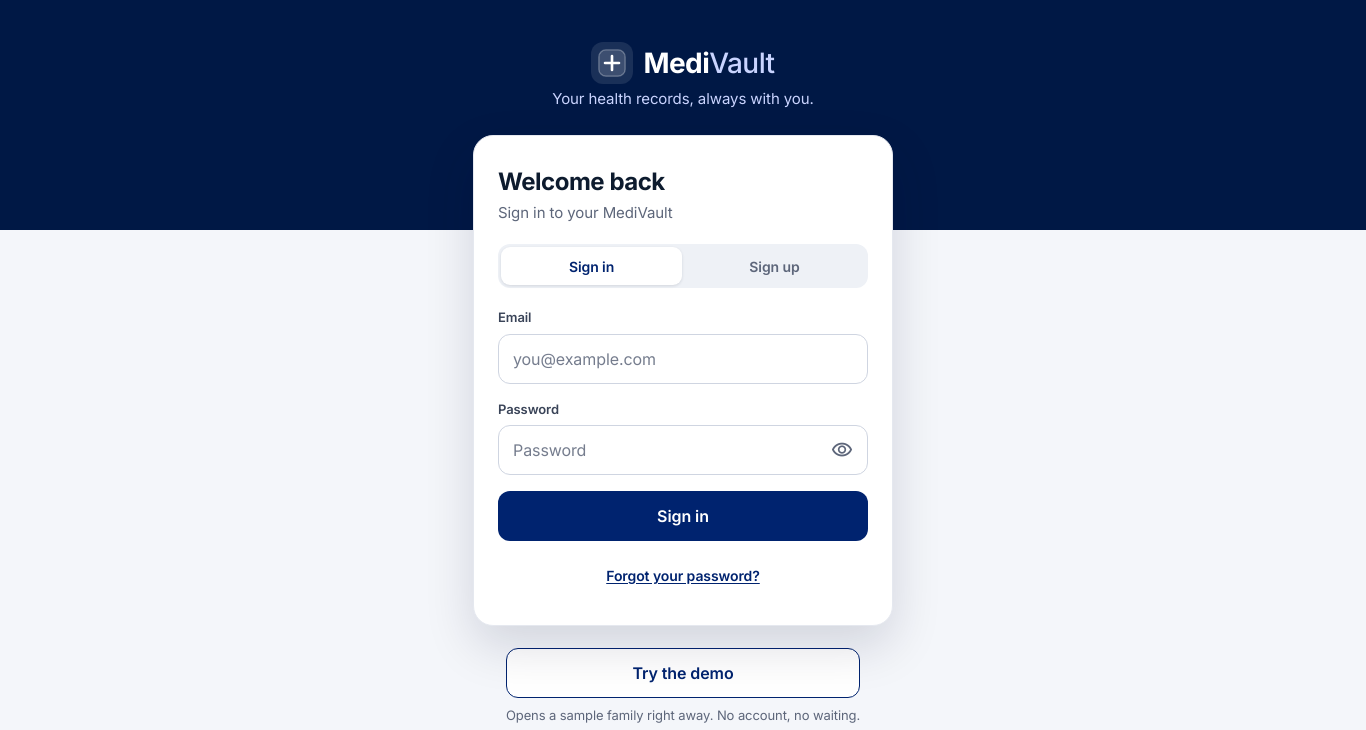
Test: Try the demo opens a sample family with no account and no server
The width and height of the screenshot is (1366, 730).
Click the button "Try the demo".
click(683, 673)  # box [506,648,860,698]
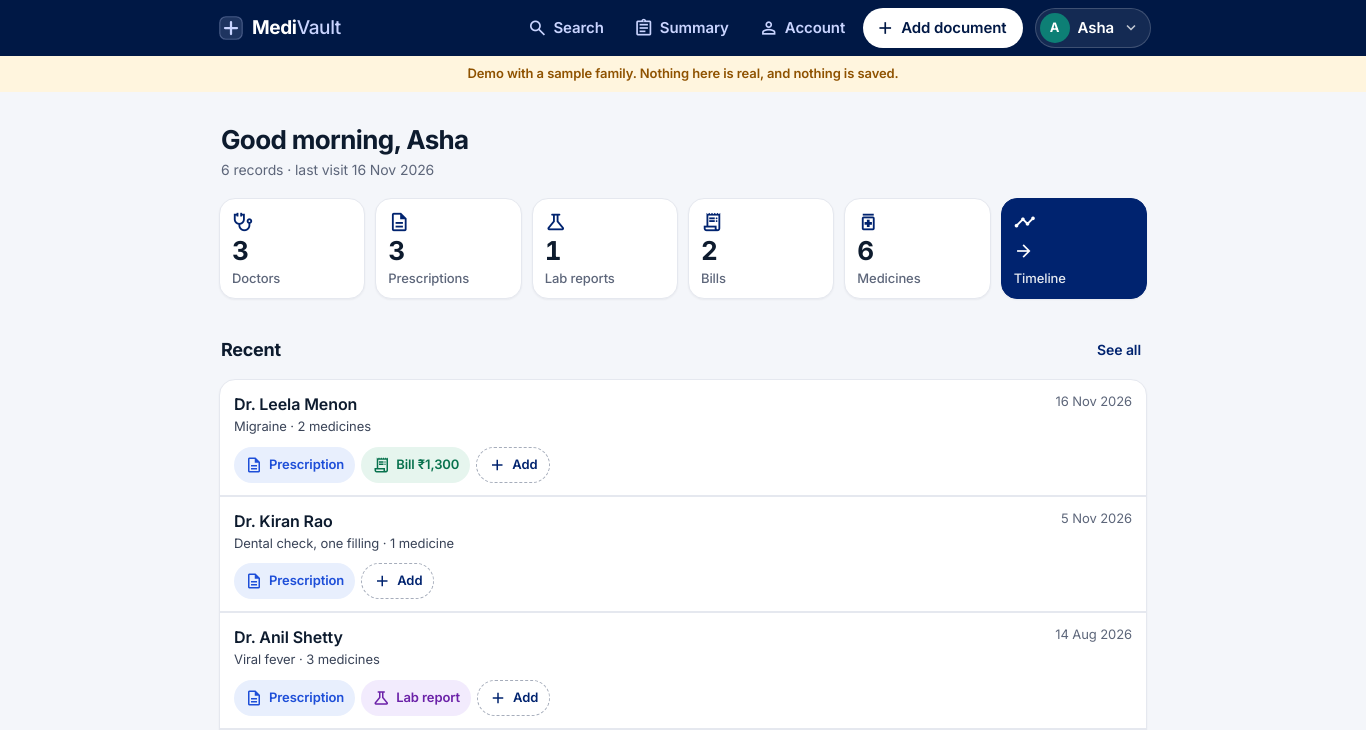
Expected: the heading "Good morning, Asha" is shown, [221,124,469,154]
Expected: the text "Demo with a sample family. Nothing here is real, and nothing is saved." is shown, [0,56,1365,92]
Expected: the text "Dr. Leela Menon" is shown, [234,394,357,414]
